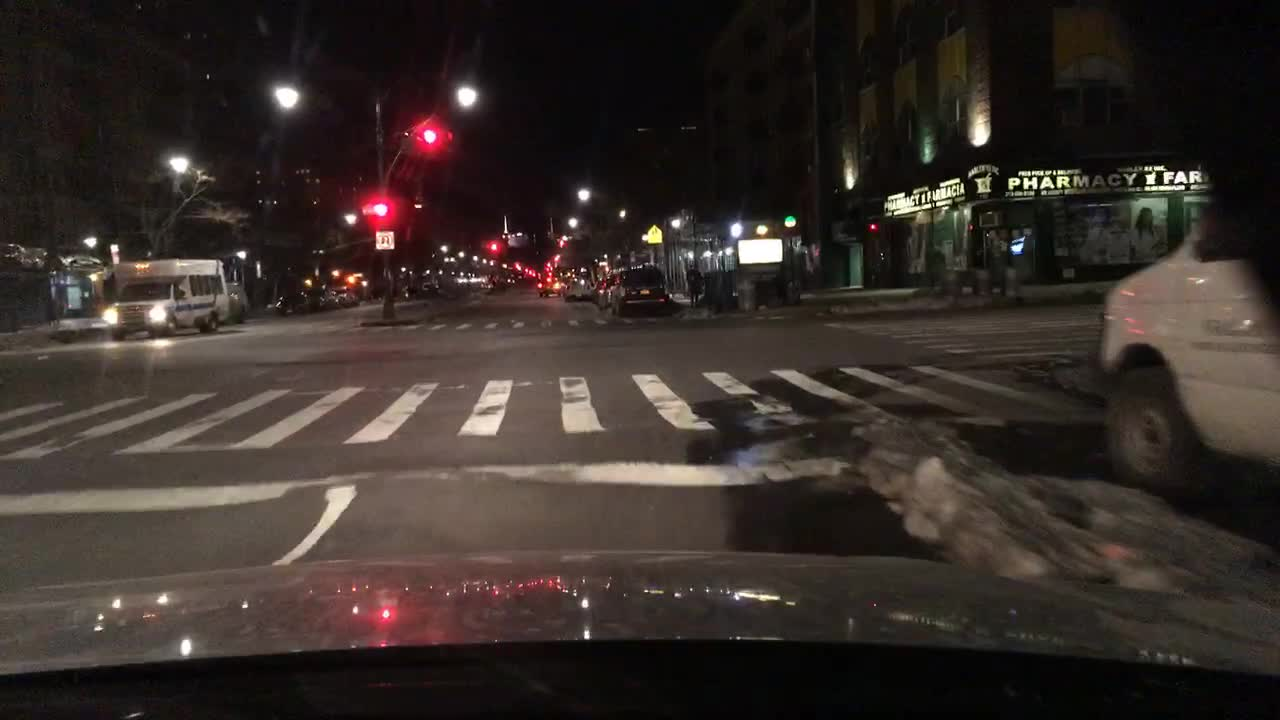car: (1100, 175, 1278, 488), (610, 265, 670, 316), (44, 308, 108, 340), (225, 281, 248, 321), (279, 290, 310, 313), (563, 277, 592, 301), (602, 270, 618, 306), (301, 288, 329, 306), (592, 272, 608, 303), (536, 277, 562, 296), (331, 288, 361, 304), (467, 277, 485, 289), (421, 281, 441, 291), (454, 273, 467, 288), (399, 285, 411, 299), (505, 275, 516, 286)
person: (689, 268, 699, 307), (687, 263, 695, 288)
traffic light: (413, 121, 451, 151), (369, 200, 393, 222), (783, 216, 797, 227), (486, 241, 499, 252), (868, 222, 878, 232), (965, 222, 975, 231), (514, 261, 521, 271), (557, 241, 567, 247)
traffic sign: (374, 230, 394, 250), (646, 223, 662, 243)
truck: (103, 257, 229, 339)
